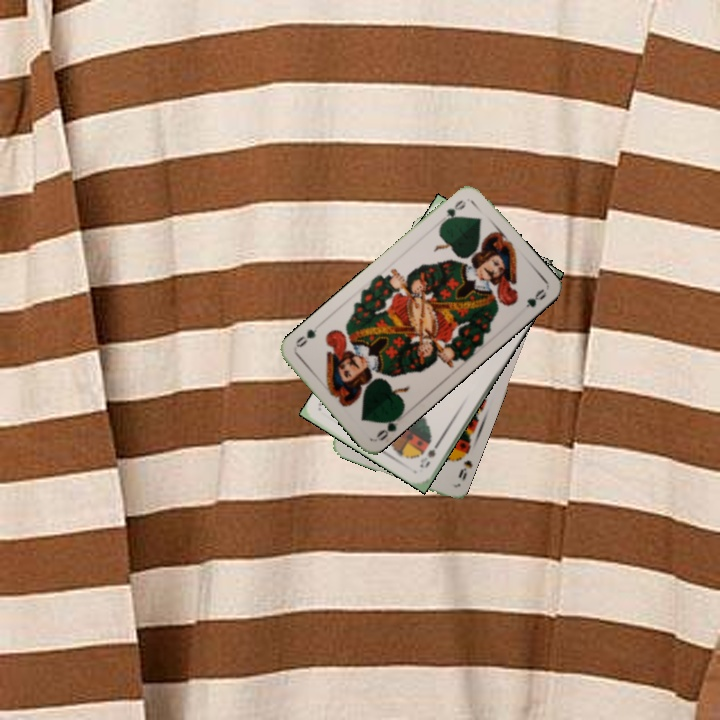GO: (372, 410, 404, 443), (437, 196, 469, 229)
S9: (454, 456, 474, 483)
SO: (415, 436, 444, 470)
